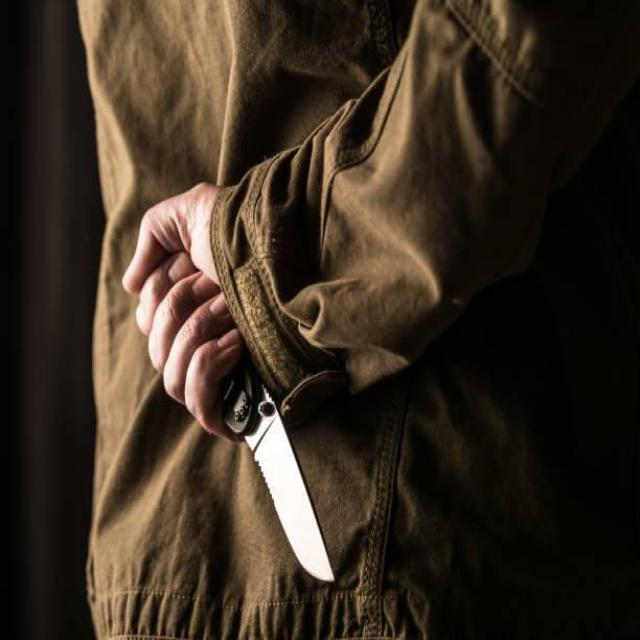faca: (107, 143, 356, 592)
